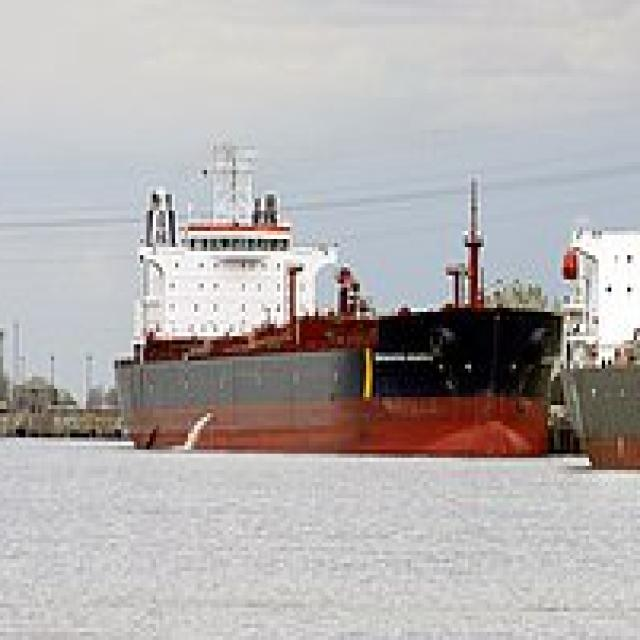Tanker: (114, 133, 566, 450), (567, 219, 640, 470)
